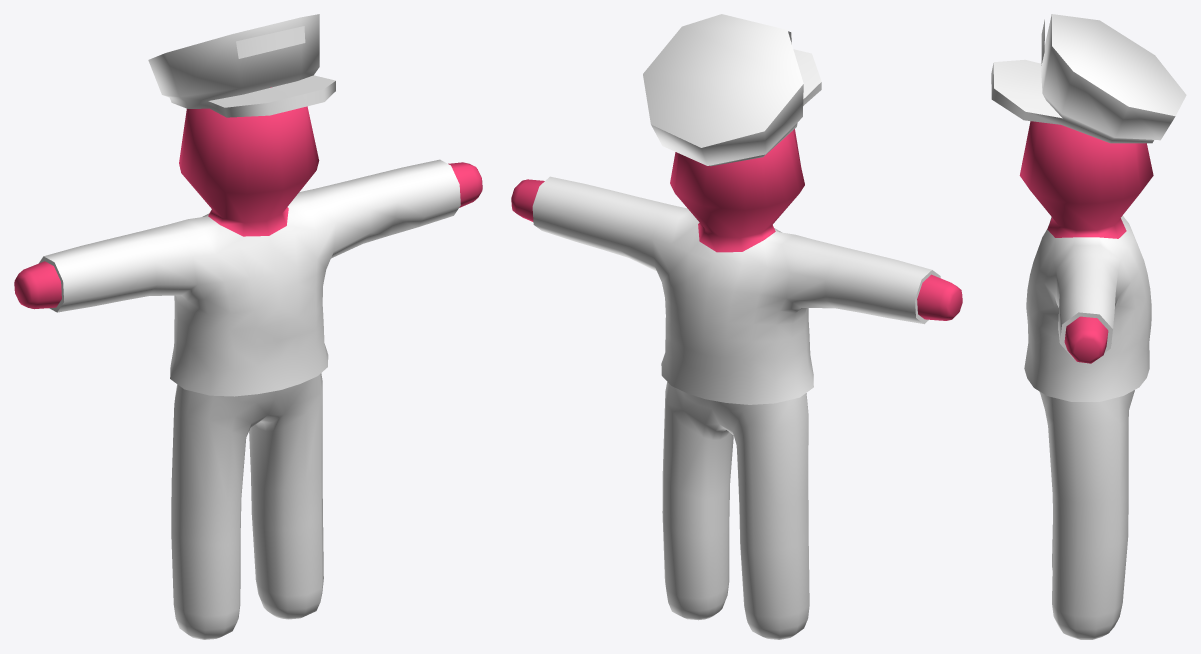
The model's file is Player_Only.fbx.
3 renders of one model, left to right at view 1: azimuth 30°, elevation 25°; view 2: azimuth 150°, elevation 25°; view 3: azimuth 270°, elevation 25°, orthographic. The views are drawn at different scales.
Parts seen in each view (by area): view 1: Player; view 2: Player; view 3: Player.
Boxes of the visible parts, x1=… form: Player: x1=14, y1=14, x2=482, y2=639; Player: x1=511, y1=14, x2=962, y2=639; Player: x1=991, y1=14, x2=1186, y2=639.
Bounding box in the file's own units: 216 × 278 × 83.95.
